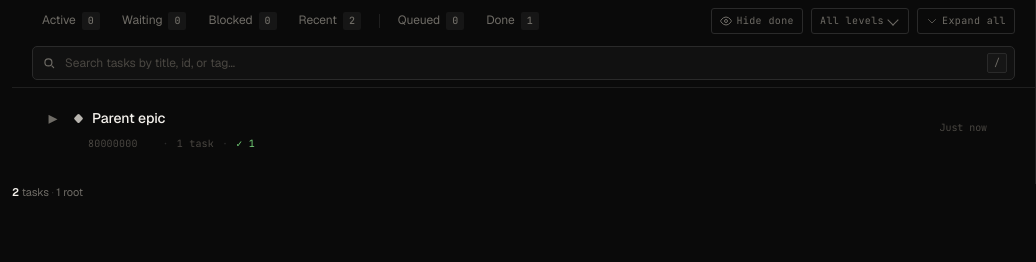
Scenario: TasksPage › does not hide done children while a scope filter is active (bypass)
Step 1. Click the button with test id "tasks-hide-done" → (757, 21), box [711,8,803,34]
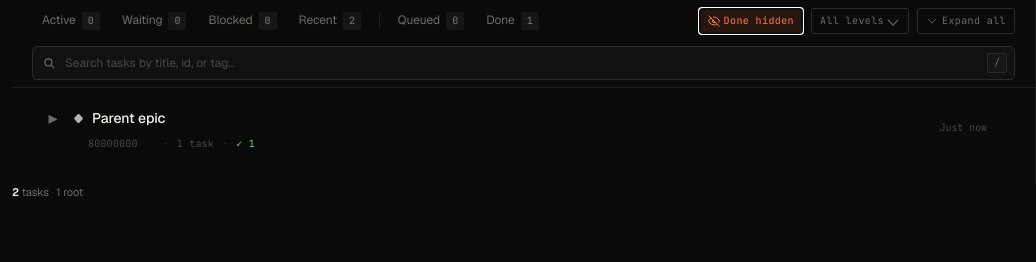
Step 2. Click the button named "done1" → (512, 21), box [476,10,549,32]
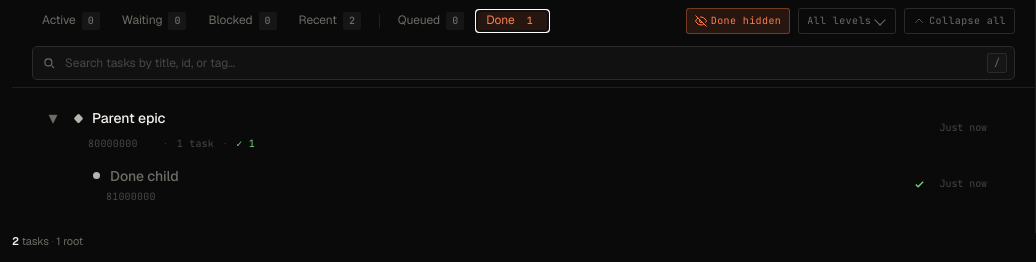
Check: the text "Done child" is shown, box [110,167,179,185]
